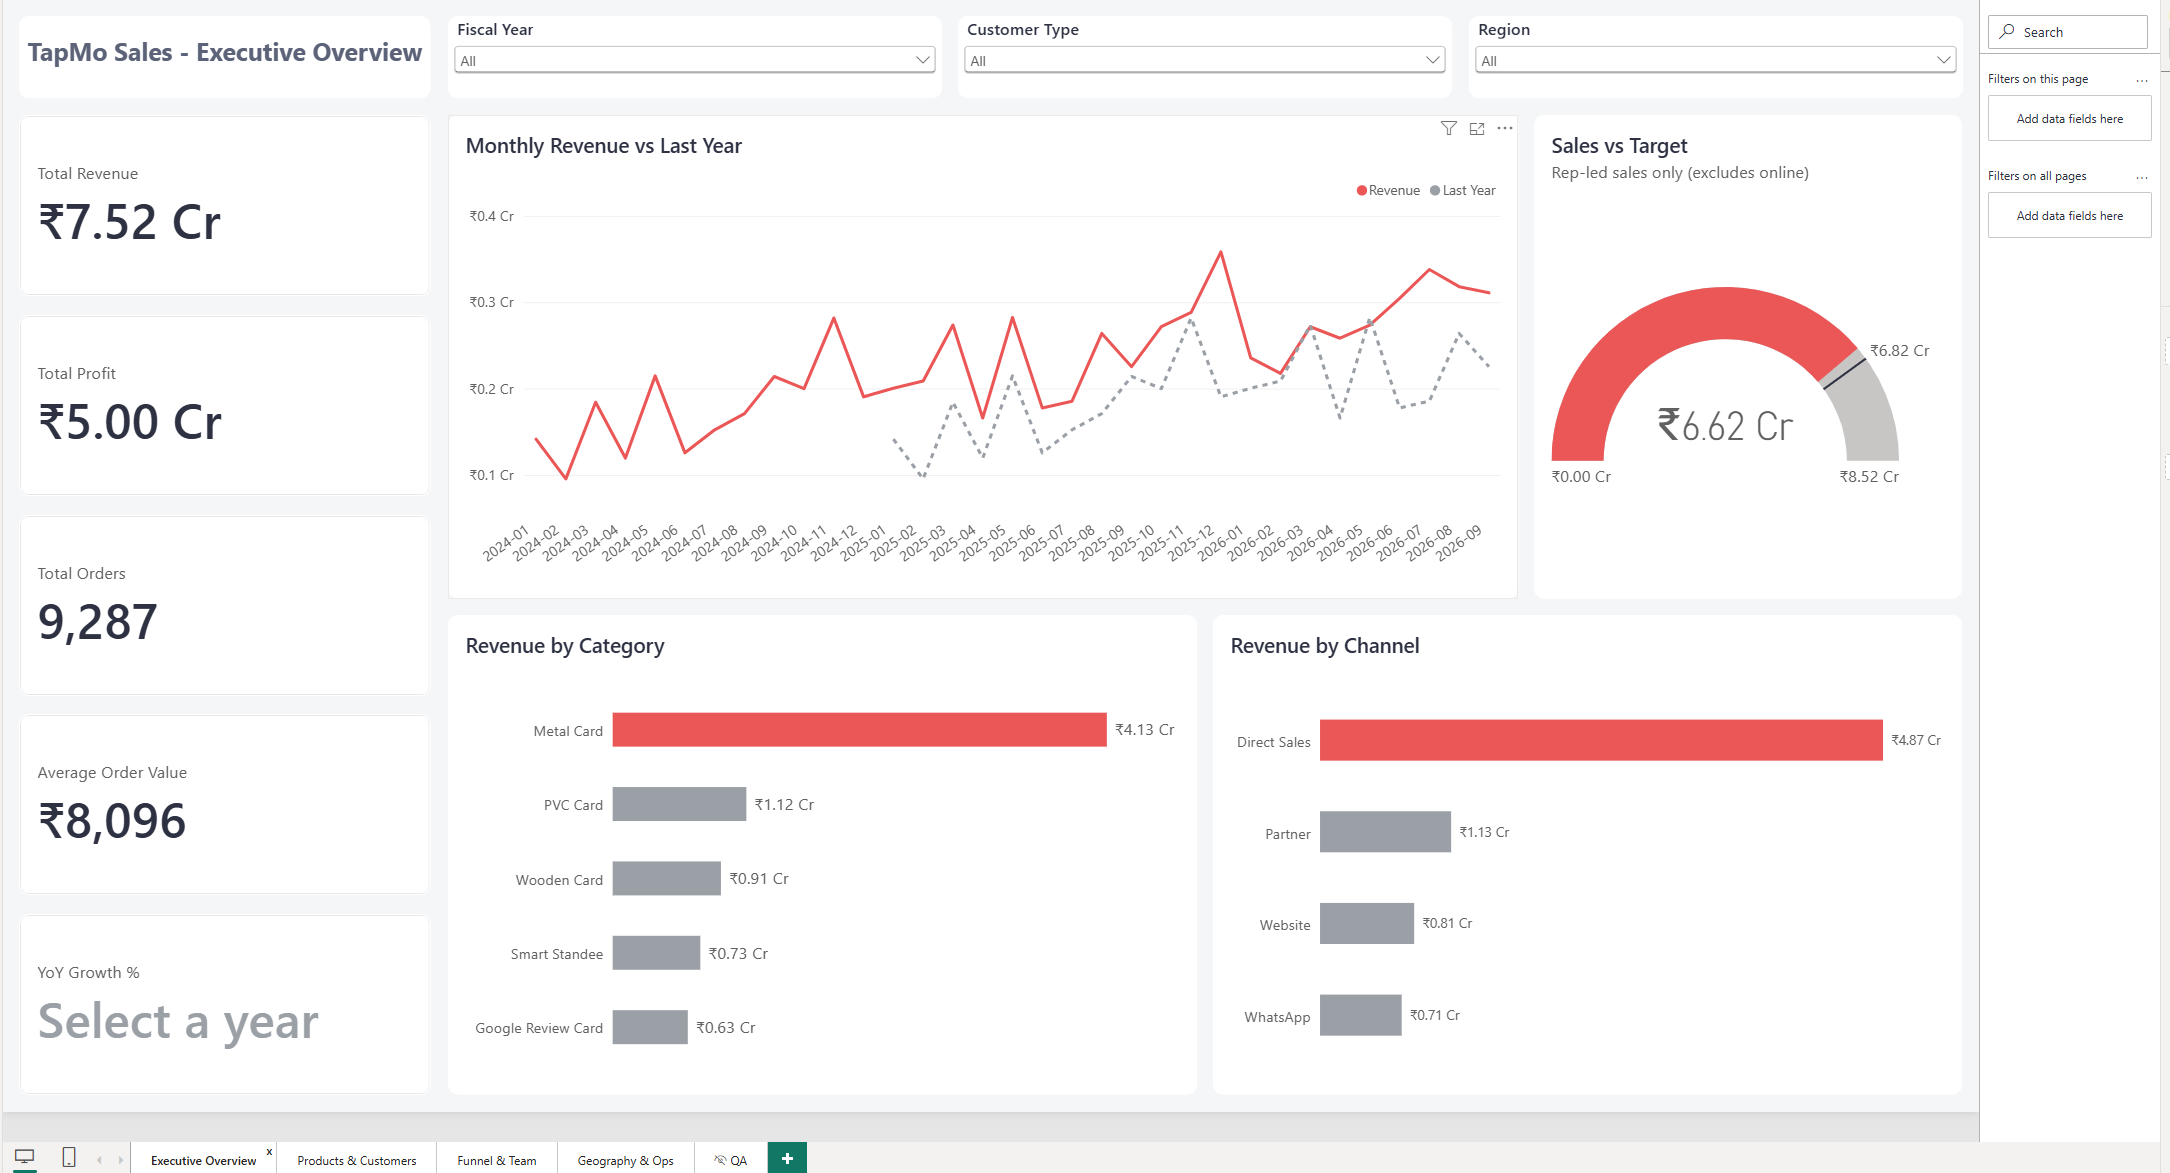

The page's visual inventory and layout, read from the dashboard file:
{"tool":"powerbi","page":{"name":"Executive Overview","canvas":[1920,1080],"ordinal":0},"visuals":[{"type":"textbox","box":[16,16,400,80],"z":0},{"type":"slicer","fields":{"Values":["tapmo dim_date.fiscal_year"]},"box":[432,16,480,80],"z":1},{"type":"slicer","fields":{"Values":["tapmo dim_customer.customer_type"]},"box":[928,16,480,80],"z":2},{"type":"slicer","fields":{"Values":["tapmo dim_customer.region"]},"box":[1424,16,480,80],"z":3},{"type":"cardVisual","fields":{"Data":["_Measures.Revenue (Cr)"]},"box":[16,112,400,176],"z":4},{"type":"cardVisual","fields":{"Data":["_Measures.Profit (Cr)"]},"box":[16,306,400,176],"z":5},{"type":"cardVisual","fields":{"Data":["_Measures.Orders (Card)"]},"box":[16,500,400,176],"z":6},{"type":"cardVisual","fields":{"Data":["_Measures.AOV (Card)"]},"box":[16,694,400,176],"z":7},{"type":"cardVisual","fields":{"Data":["_Measures.YoY Growth %"]},"box":[16,888,400,176],"z":8},{"type":"lineChart","title":"Monthly Revenue vs Last Year","fields":{"Category":["tapmo dim_date.yr_month"],"Y":["_Measures.Revenue (Cr)","_Measures.Revenue PY (Cr)"]},"box":[432,112,1040,470],"z":9},{"type":"gauge","title":"Sales vs Target","fields":{"MaxValue":["_Measures.Gauge Max (Cr)"],"TargetValue":["_Measures.Target (Cr)"],"Y":["_Measures.Rep Actual (Cr)"]},"box":[1488,112,416,470],"z":10},{"type":"clusteredBarChart","title":"Revenue by Category","fields":{"Category":["tapmo dim_product.category"],"Y":["_Measures.Revenue (Cr)"]},"box":[432,598,728,466],"z":11},{"type":"clusteredBarChart","title":"Revenue by Channel","fields":{"Category":["tapmo vw_sales_clean.sales_channel"],"Y":["_Measures.Revenue (Cr)"]},"box":[1176,598,728,466],"z":12}]}

Visuals, with their boxes on the page's 1920x1080 design canvas (x1, y1, x2, y2). These are canvas units, not pixel positions in the 2170x1173 screenshot, which may show the page scaled, cropped or inside an application window:
textbox: (16,16,416,96)
slicer - tapmo dim_date.fiscal_year: (432,16,912,96)
slicer - tapmo dim_customer.customer_type: (928,16,1408,96)
slicer - tapmo dim_customer.region: (1424,16,1904,96)
cardVisual - _Measures.Revenue (Cr): (16,112,416,288)
cardVisual - _Measures.Profit (Cr): (16,306,416,482)
cardVisual - _Measures.Orders (Card): (16,500,416,676)
cardVisual - _Measures.AOV (Card): (16,694,416,870)
cardVisual - _Measures.YoY Growth %: (16,888,416,1064)
"Monthly Revenue vs Last Year" lineChart: (432,112,1472,582)
"Sales vs Target" gauge: (1488,112,1904,582)
"Revenue by Category" clusteredBarChart: (432,598,1160,1064)
"Revenue by Channel" clusteredBarChart: (1176,598,1904,1064)
